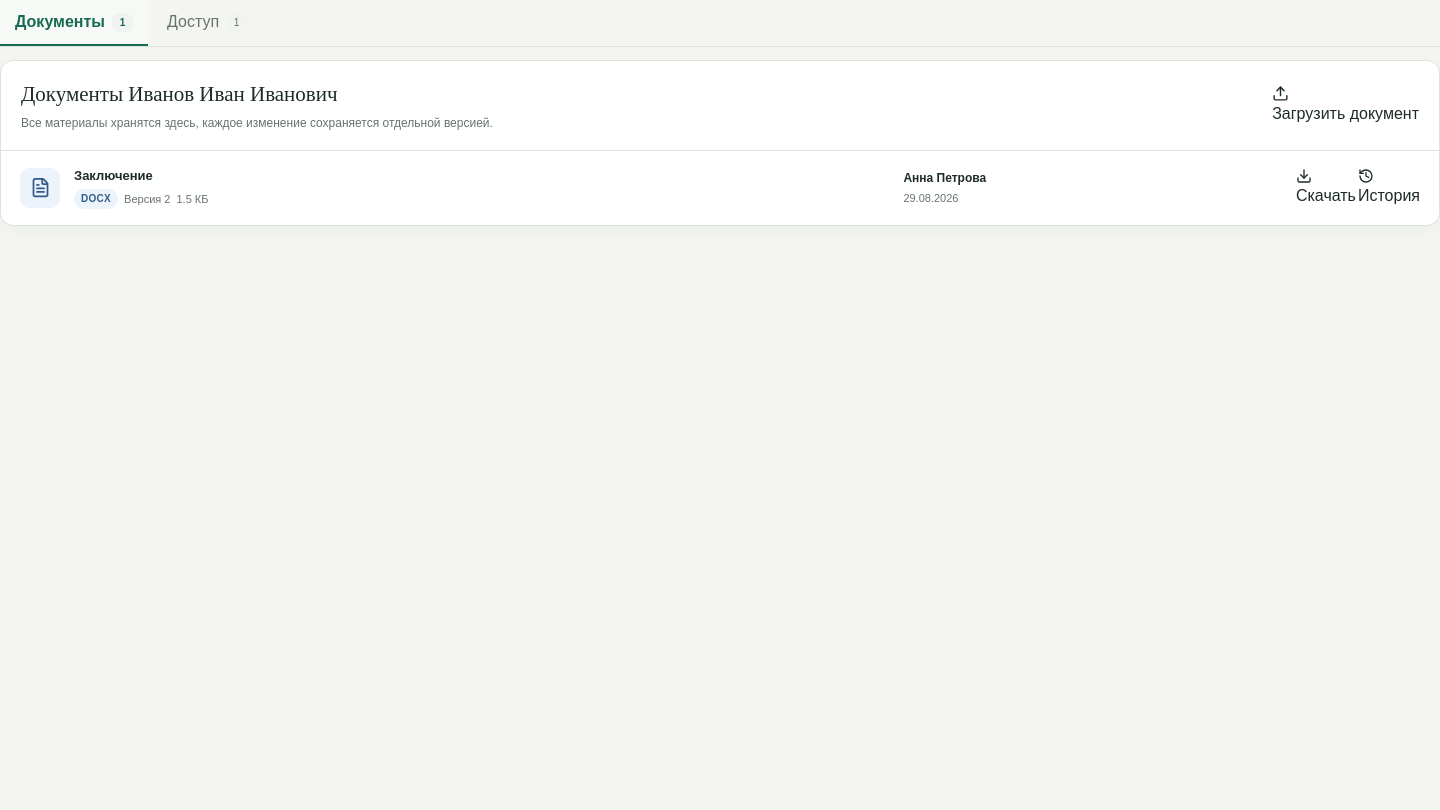
Test: StudentWorkspace › loads real documents, opens history and switches to access grants
Expected: the link "Заключение" is shown, 74,168 -> 153,183
Click the button "История" at (1389, 188), box 1358,168 -> 1420,208
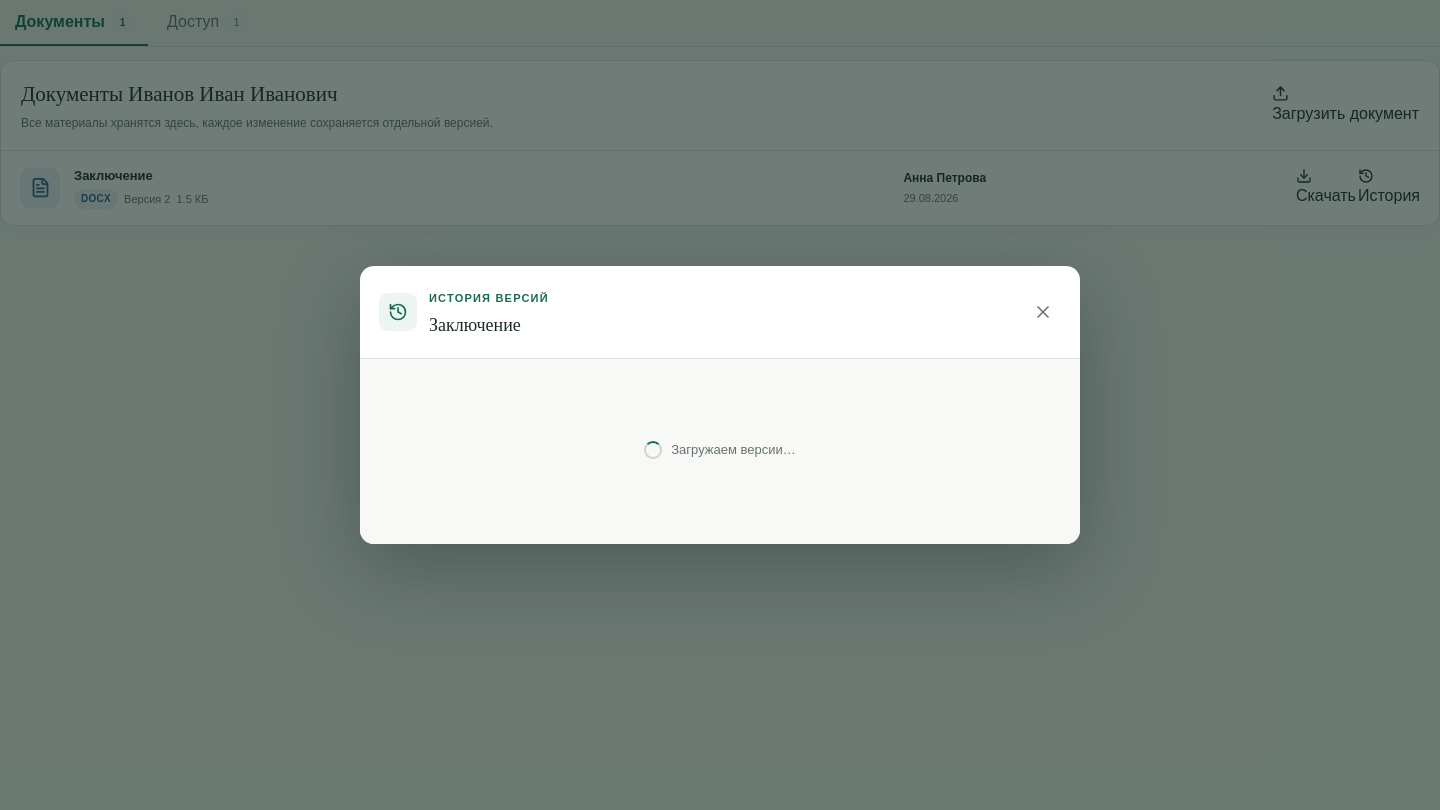
Now the dialog "Заключение" is shown, box 360,266 -> 1080,544
Click the button named "Закрыть" at (1043, 312), box 1025,294 -> 1061,330
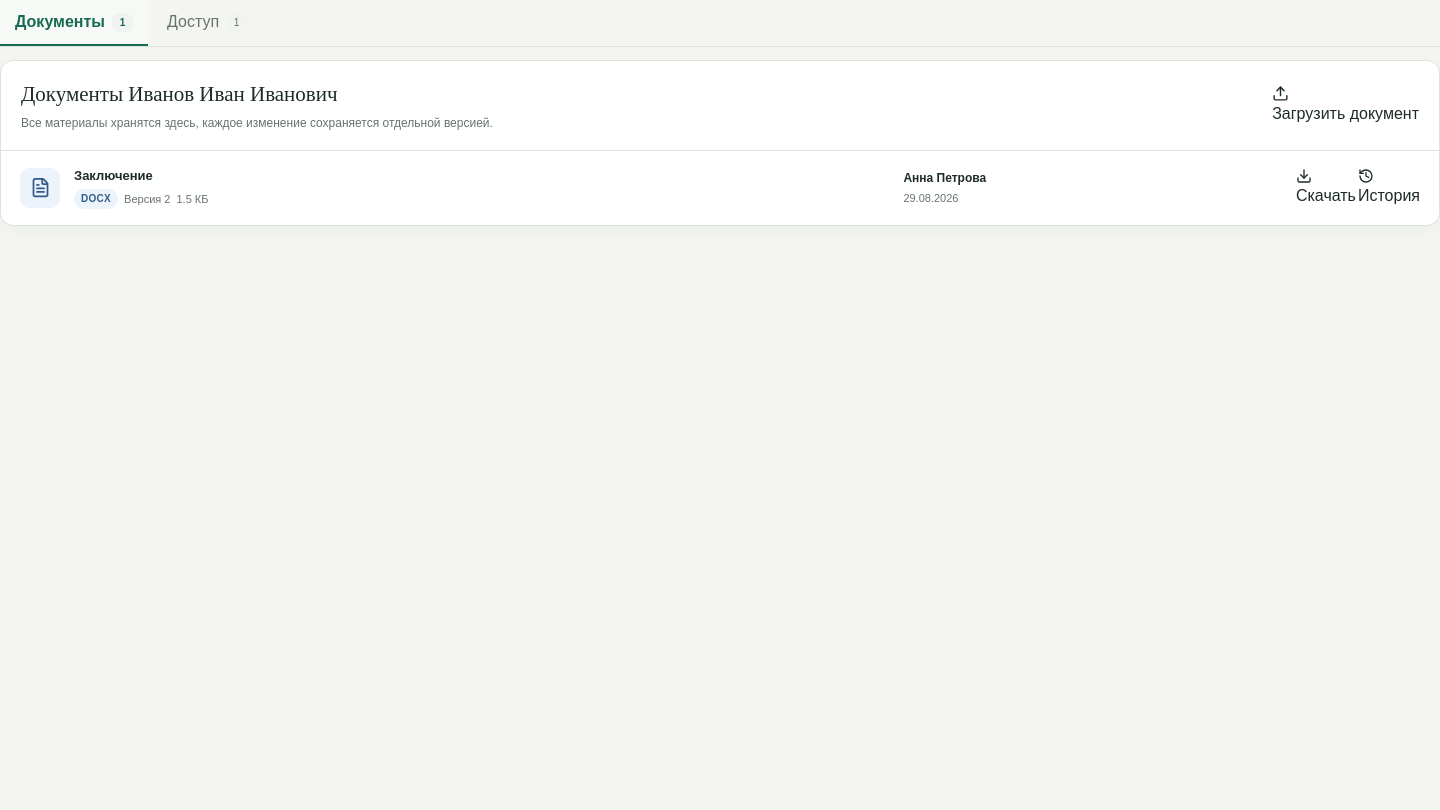
Click the tab "Доступ 1" at (207, 23), box 152,0 -> 262,46
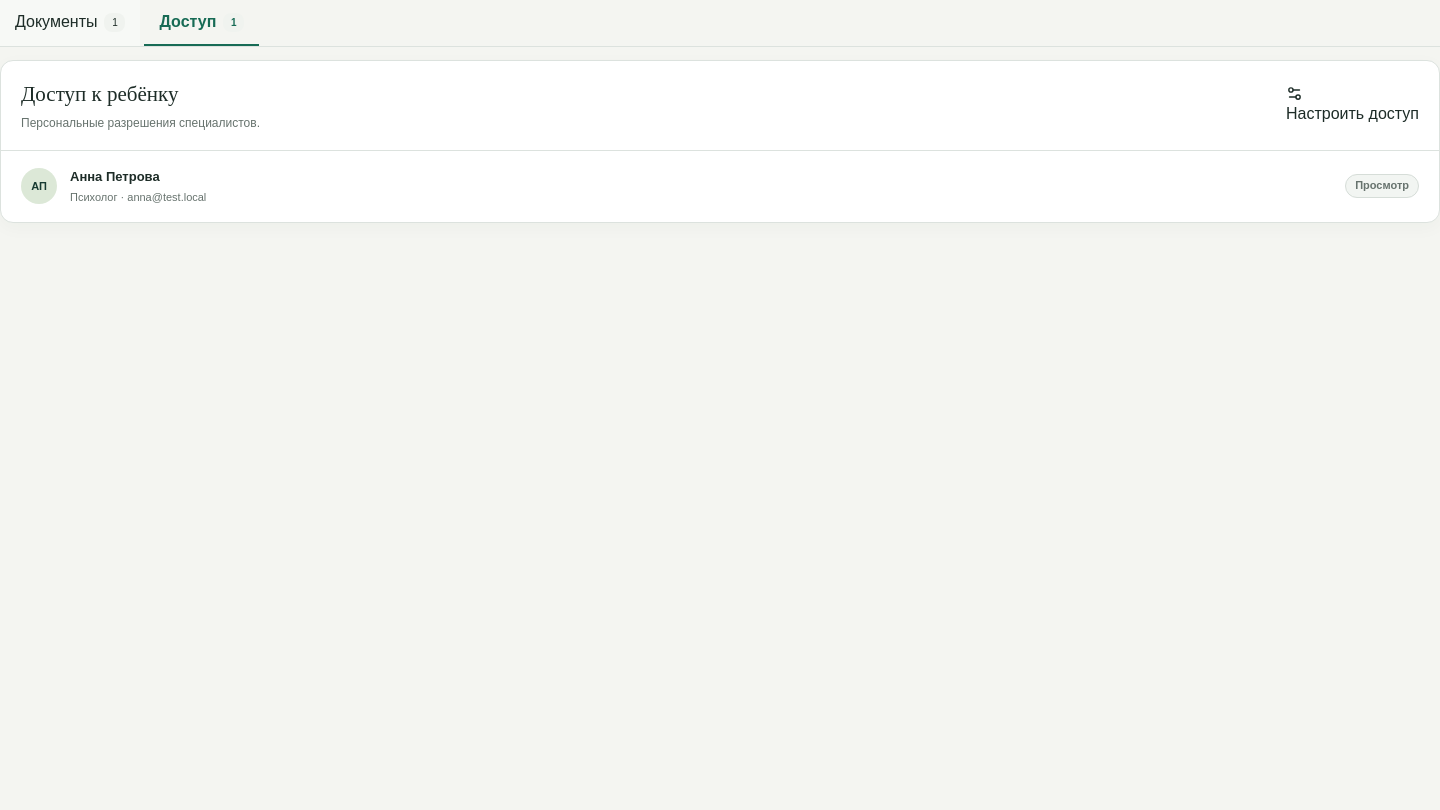
Now the text "Психолог · anna@test.local" is shown, box 70,191 -> 206,203
Now the text "Просмотр" is shown, box 1345,174 -> 1419,198
